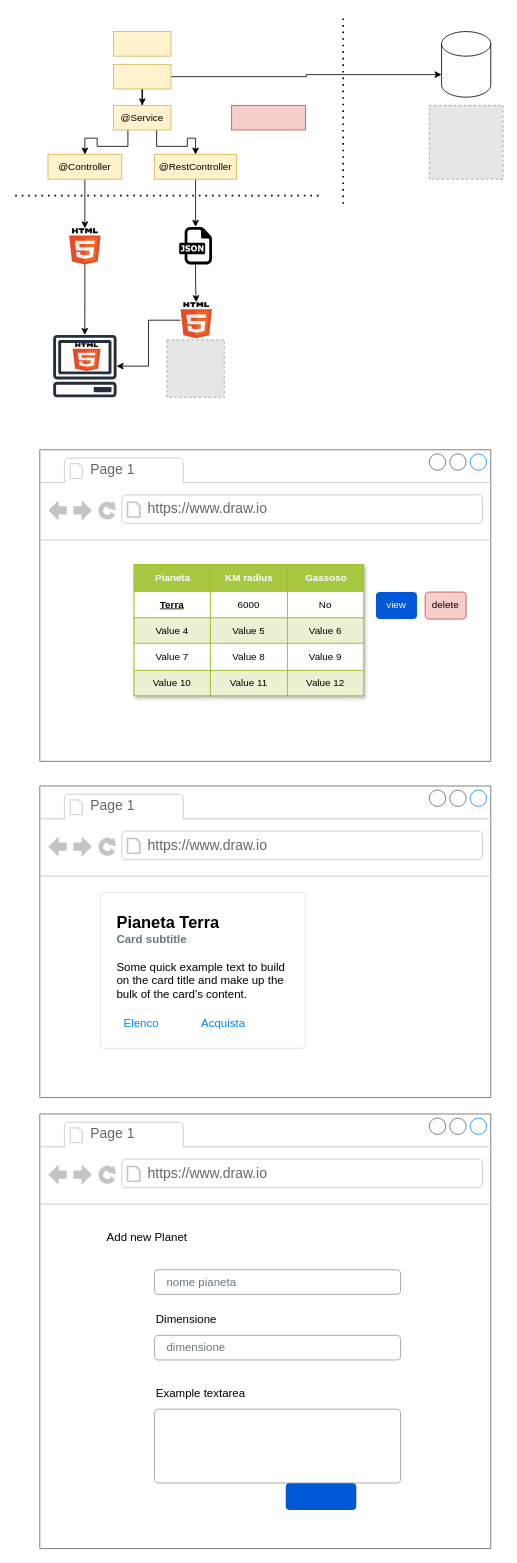
The diagram is 517 pixels wide and 1563 high, and some of its shapes have lost their labels. Grey dashed boxes stand in for pictures. The shapes that lost their labels are listed below. From the top down, each one's centre as x and y in pixels, then its label:
the point at 142,43: @Entity
the point at 142,76: @Repository
the point at 268,117: @Autowired
the point at 320,1496: Add
